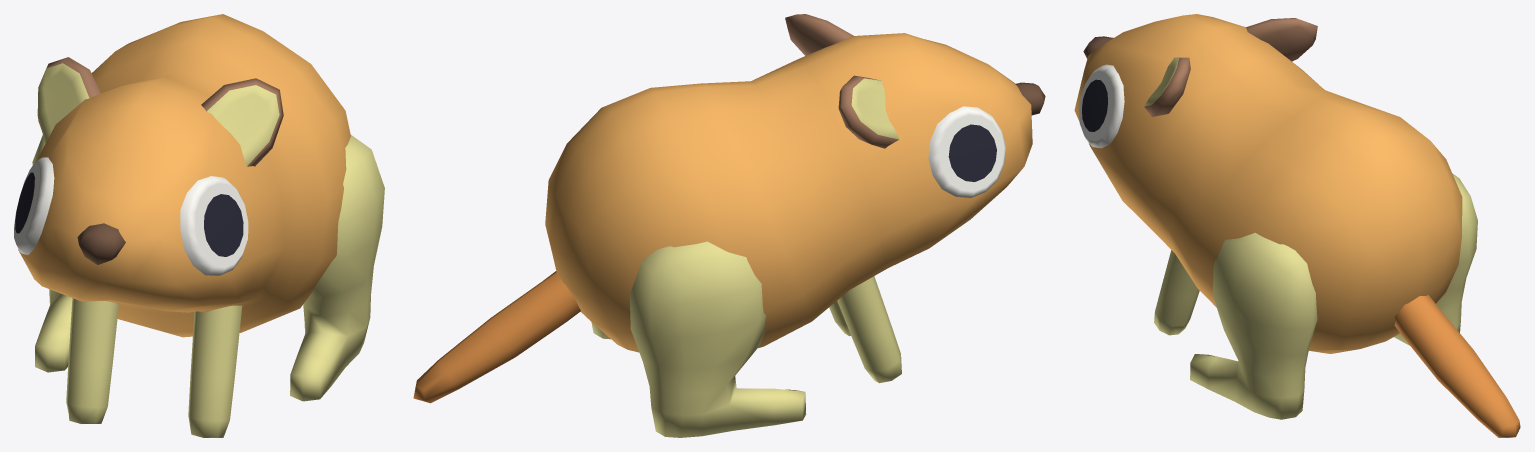
Rendered from Rat.glb.
The picture shows the model from 3 angles, left to right: view 1: azimuth 30°, elevation 25°; view 2: azimuth 150°, elevation 25°; view 3: azimuth 270°, elevation 25°; orthographic projection. The views are drawn at different scales.
Visible parts, largest first — view 1: Muskrat_LOD1.004; view 2: Muskrat_LOD1.004; view 3: Muskrat_LOD1.004.
Part boxes in pixels (box(x1,y1,x2,y2)): Muskrat_LOD1.004: box(14, 14, 384, 437); Muskrat_LOD1.004: box(413, 14, 1045, 437); Muskrat_LOD1.004: box(1074, 14, 1520, 437).
Size of the model in its own units: 0.6943 by 0.4976 by 0.6943.
1 material, 1 textured.
